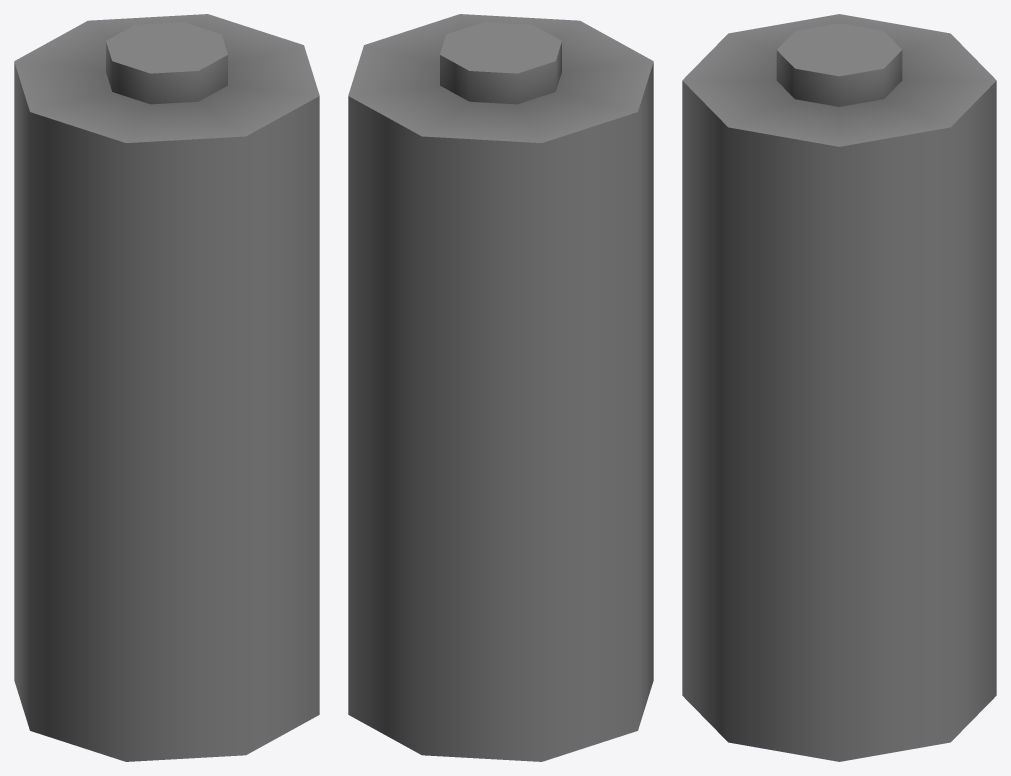
Rendered from battery.glb.
3 views of the same model, side by side, from view 1: azimuth 30°, elevation 25°; view 2: azimuth 150°, elevation 25°; view 3: azimuth 270°, elevation 25° (orthographic).
Visible parts, largest first — view 1: Cube; view 2: Cube; view 3: Cube.
Part boxes in pixels (bbox=[...]): Cube: bbox=[14, 14, 319, 761]; Cube: bbox=[348, 14, 653, 761]; Cube: bbox=[682, 14, 996, 761].
Size of what is drawn, in the model's own units: 0.7131 by 1.62 by 0.7131.
1 material, 1 textured.
